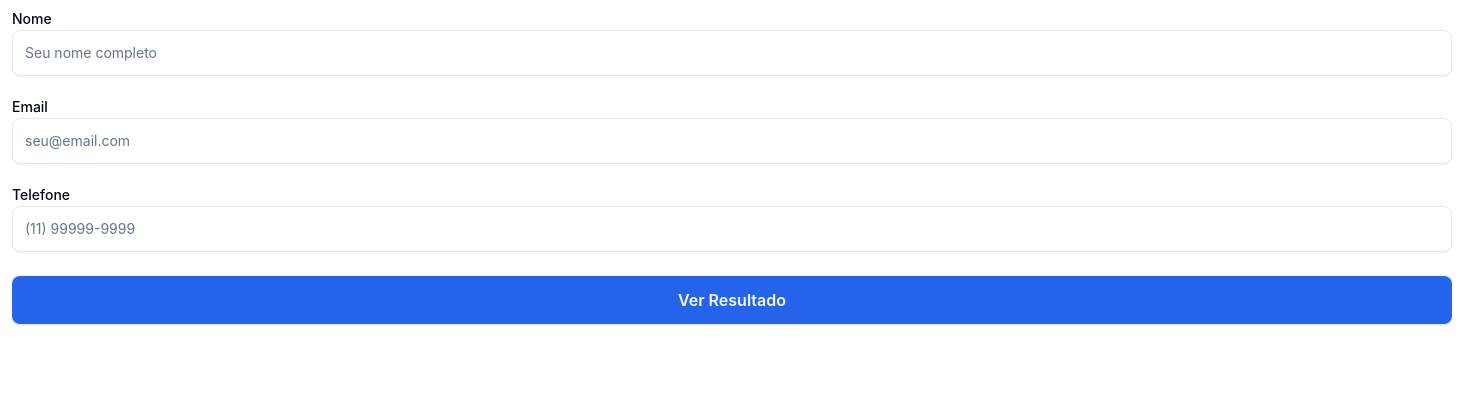
it: LeadForm › should show validation error for invalid phone
Type "123" into the field labelled "Telefone" at [732, 229], box [12,206,1452,252]
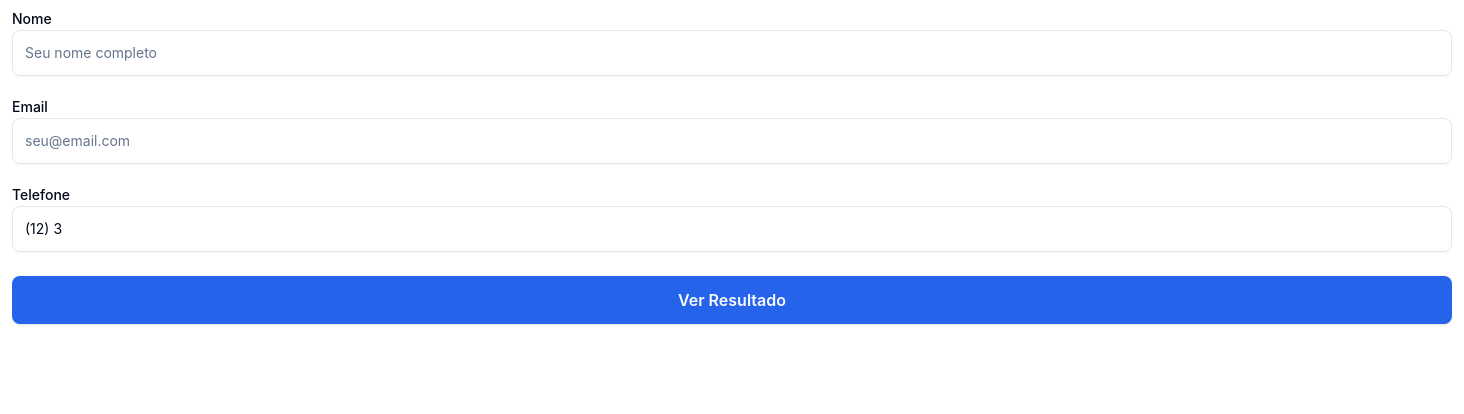
Click the button "Ver Resultado" at [732, 300], box [12,276,1452,324]
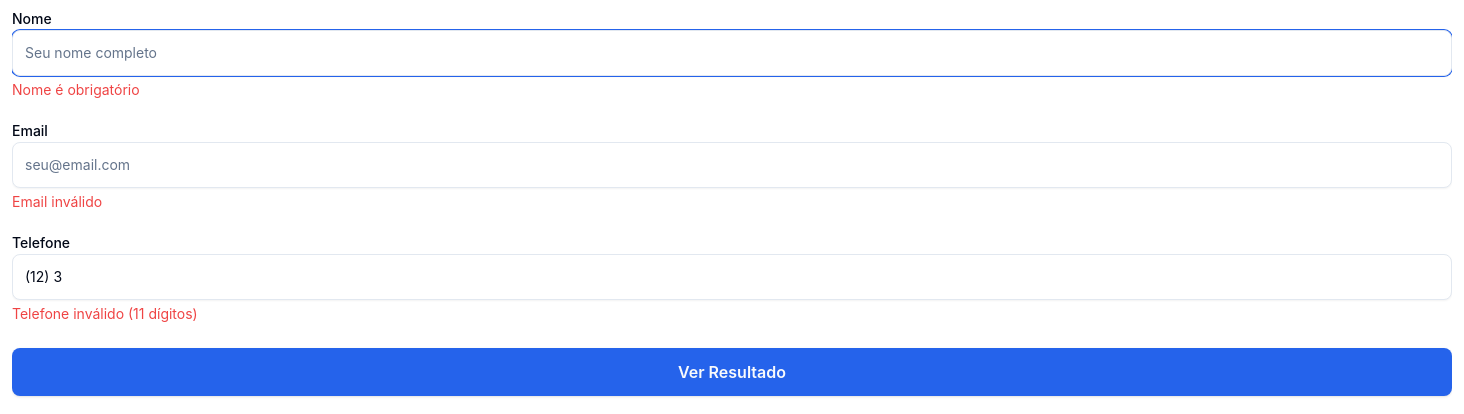
Now the text "Telefone inválido (11 dígitos)" is shown, box [12,305,198,322]
